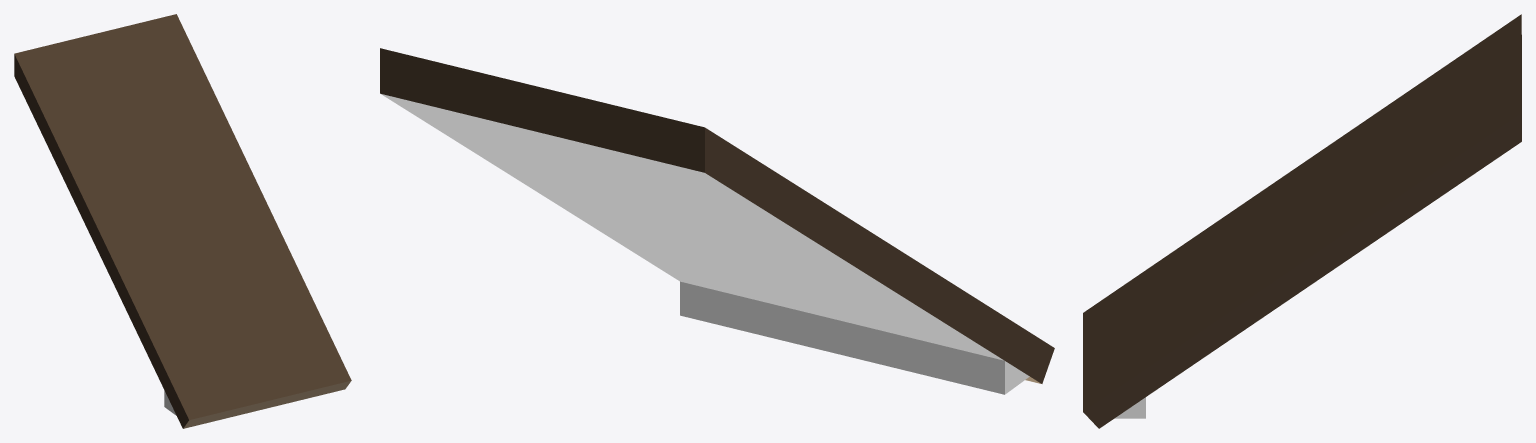
The model's file is buildings_house-roof-3x3m.fbx.
The picture shows the model from 3 angles, left to right: view 1: azimuth 30°, elevation 25°; view 2: azimuth 150°, elevation 25°; view 3: azimuth 270°, elevation 25°; orthographic projection. The views are drawn at different scales.
Parts seen in each view (by area): view 1: buildings_house_roof_3x3m; view 2: buildings_house_roof_3x3m; view 3: buildings_house_roof_3x3m.
Boxes of the visible parts, x1,y1,x2,y2 form: buildings_house_roof_3x3m: (14, 14, 351, 428); buildings_house_roof_3x3m: (380, 48, 1054, 394); buildings_house_roof_3x3m: (1083, 14, 1521, 428).
Bounding box in the file's own units: 107 × 159 × 200.
